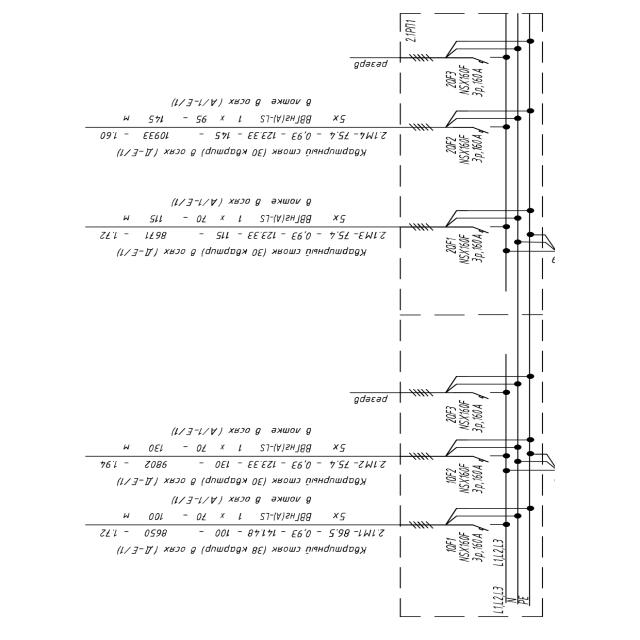-: (456, 233, 488, 267), (457, 531, 487, 565), (457, 134, 487, 168), (457, 64, 487, 98), (458, 400, 486, 434), (458, 462, 484, 497), (402, 18, 418, 43)
QF: (472, 55, 492, 65), (471, 124, 491, 134), (472, 224, 492, 234), (473, 390, 493, 400), (472, 454, 492, 464), (472, 522, 492, 532)
